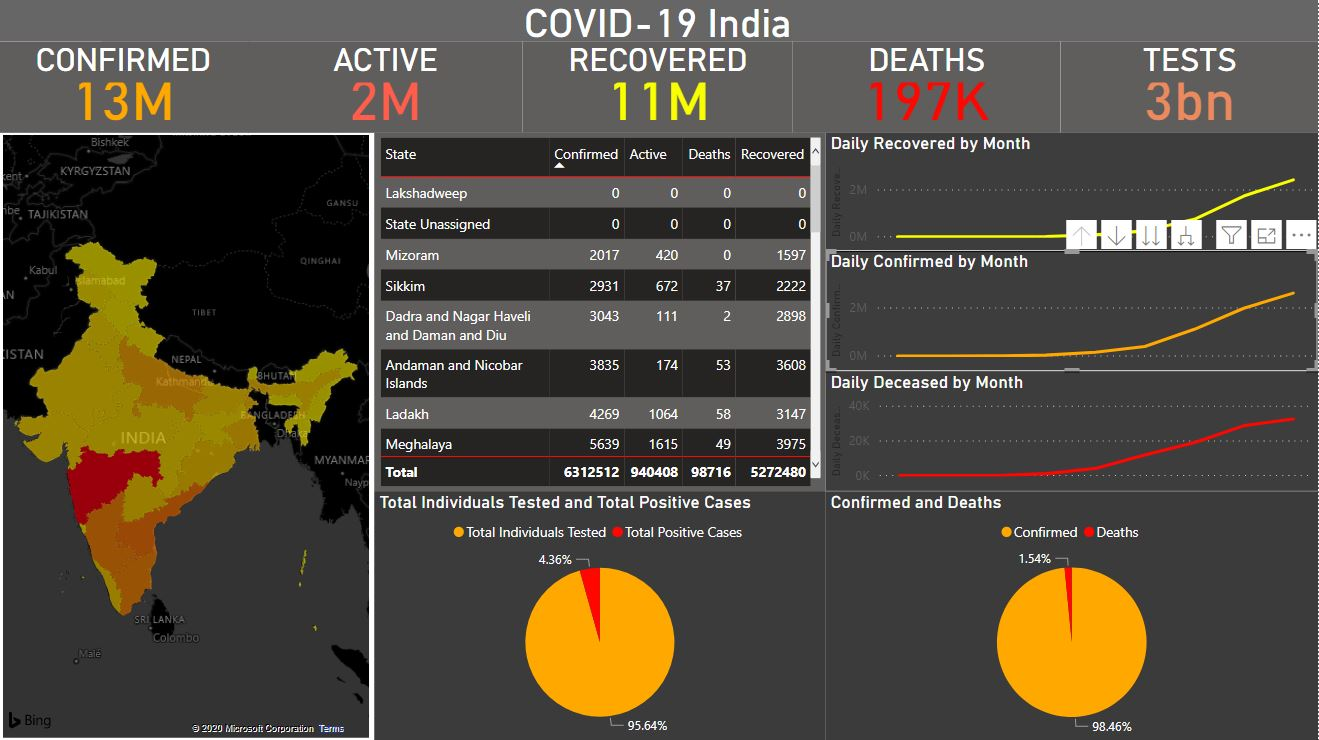

What the dashboard file says about the page in this screenshot:
{"tool":"powerbi","page":{"name":"Page 1","canvas":[1280,720],"ordinal":0},"visuals":[{"type":"filledMap","fields":{"Category":["state_wise.State"]},"box":[0,107.1,364.8,613.9],"z":0},{"type":"lineChart","fields":{"Category":["case_time_series.Date.Variation.Date Hierarchy.Month","case_time_series.Date.Variation.Date Hierarchy.Day"],"Y":["Sum(case_time_series.Daily Recovered)"]},"box":[802.2,128,477.8,116.1],"z":1000},{"type":"lineChart","fields":{"Category":["case_time_series.Date.Variation.Date Hierarchy.Month","case_time_series.Date.Variation.Date Hierarchy.Day"],"Y":["Sum(case_time_series.Daily Confirmed)"]},"box":[802.2,242.6,477.8,117.6],"z":2000},{"type":"lineChart","fields":{"Category":["case_time_series.Date.Variation.Date Hierarchy.Month","case_time_series.Date.Variation.Date Hierarchy.Day"],"Y":["Sum(case_time_series.Daily Deceased)"]},"box":[802.2,360.2,477.8,116.1],"z":3000},{"type":"card","title":"ACTIVE","fields":{"Values":["Sum(state_wise.Active)"]},"box":[242.8,39.8,266.5,88.4],"z":4000},{"type":"card","title":"CONFIRMED","fields":{"Values":["Sum(state_wise.Confirmed)"]},"box":[0,39.8,242.8,88.4],"z":5000},{"type":"actionButton","box":[0,0,100,40],"z":6000},{"type":"tableEx","fields":{"Values":["state_wise.State","Sum(state_wise.Confirmed)","Sum(state_wise.Active)","Sum(state_wise.Deaths)","Sum(state_wise.Recovered)"]},"box":[364.7,128,437.6,348.3],"z":7000},{"type":"card","title":"RECOVERED","fields":{"Values":["Sum(state_wise.Recovered)"]},"box":[509.3,39.8,261.5,88.4],"z":8000},{"type":"card","title":"DEATHS","fields":{"Values":["Sum(state_wise.Deaths)"]},"box":[770.7,39.8,259,88.4],"z":9000},{"type":"card","title":"TESTS","fields":{"Values":["Sum(tested_numbers_icmr_data.Total Samples Tested)"]},"box":[1029.7,39.8,250.3,88.4],"z":10000},{"type":"pieChart","fields":{"Y":["Sum(tested_numbers_icmr_data.Total Individuals Tested)","Sum(tested_numbers_icmr_data.Total Positive Cases)"]},"box":[364.7,476.3,437.6,244.1],"z":11000},{"type":"pieChart","fields":{"Y":["Sum(state_wise.Confirmed)","Sum(state_wise.Deaths)"]},"box":[802.2,476.3,477.8,244.1],"z":12000},{"type":"textbox","title":"COVID-19 India","box":[0,0,1280,39.8],"z":12001}]}

Visuals, with their boxes in screenshot pixels (x1, y1, x2, y2), scaled from the page's 1280x720 canvas onto the 1319x740 screenshot:
filledMap - state_wise.State: (0, 110, 376, 739)
lineChart - case_time_series.Date.Variation.Date Hierarchy.Month x case_time_series.Date.Variation.Date Hierarchy.Day: (827, 132, 1318, 251)
lineChart - case_time_series.Date.Variation.Date Hierarchy.Month x case_time_series.Date.Variation.Date Hierarchy.Day: (827, 249, 1318, 370)
lineChart - case_time_series.Date.Variation.Date Hierarchy.Month x case_time_series.Date.Variation.Date Hierarchy.Day: (827, 370, 1318, 490)
"ACTIVE" card: (250, 41, 525, 132)
"CONFIRMED" card: (0, 41, 250, 132)
actionButton: (0, 0, 103, 41)
tableEx - state_wise.State x Sum(state_wise.Confirmed): (376, 132, 827, 490)
"RECOVERED" card: (525, 41, 794, 132)
"DEATHS" card: (794, 41, 1061, 132)
"TESTS" card: (1061, 41, 1318, 132)
pieChart - Sum(tested_numbers_icmr_data.Total Individuals Tested) x Sum(tested_numbers_icmr_data.Total Positive Cases): (376, 490, 827, 739)
pieChart - Sum(state_wise.Confirmed) x Sum(state_wise.Deaths): (827, 490, 1318, 739)
"COVID-19 India" textbox: (0, 0, 1318, 41)
